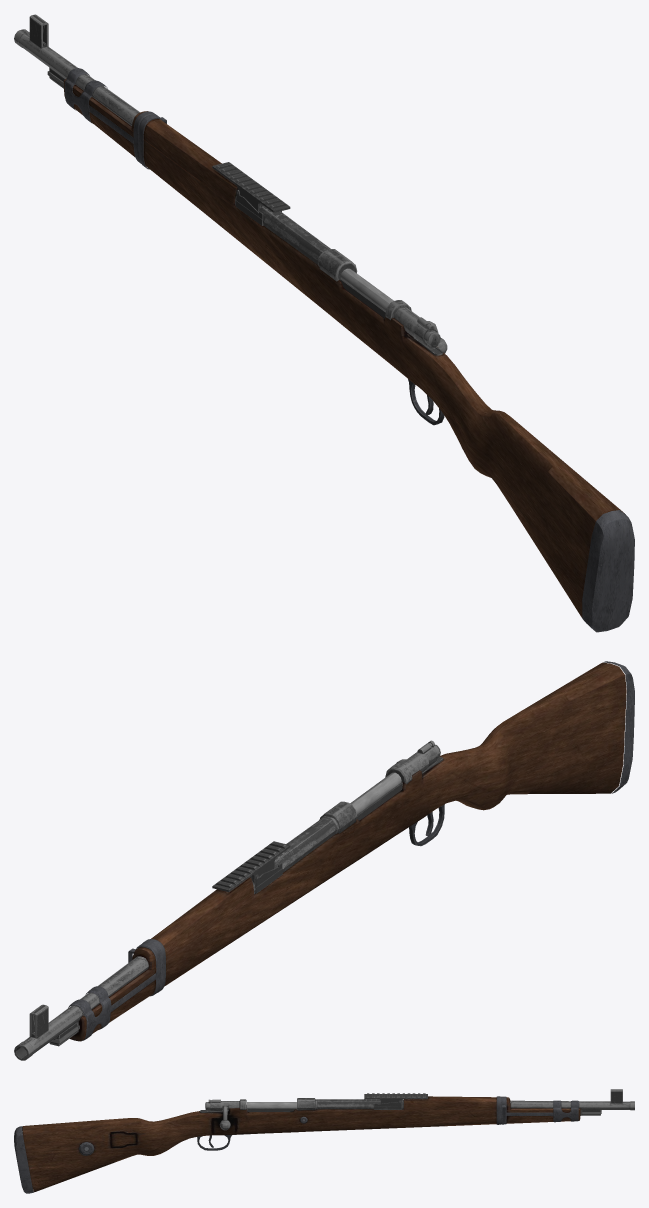
The model's file is kar98k.glb.
The picture shows the model from 3 angles, top to bottom: view 1: azimuth 30°, elevation 25°; view 2: azimuth 150°, elevation 25°; view 3: azimuth 270°, elevation 25°; orthographic projection. The views are drawn at different scales.
Bounding box in the file's own units: 0.0543 × 0.2004 × 1.11.
Materials: 5 (5 with a texture image).
